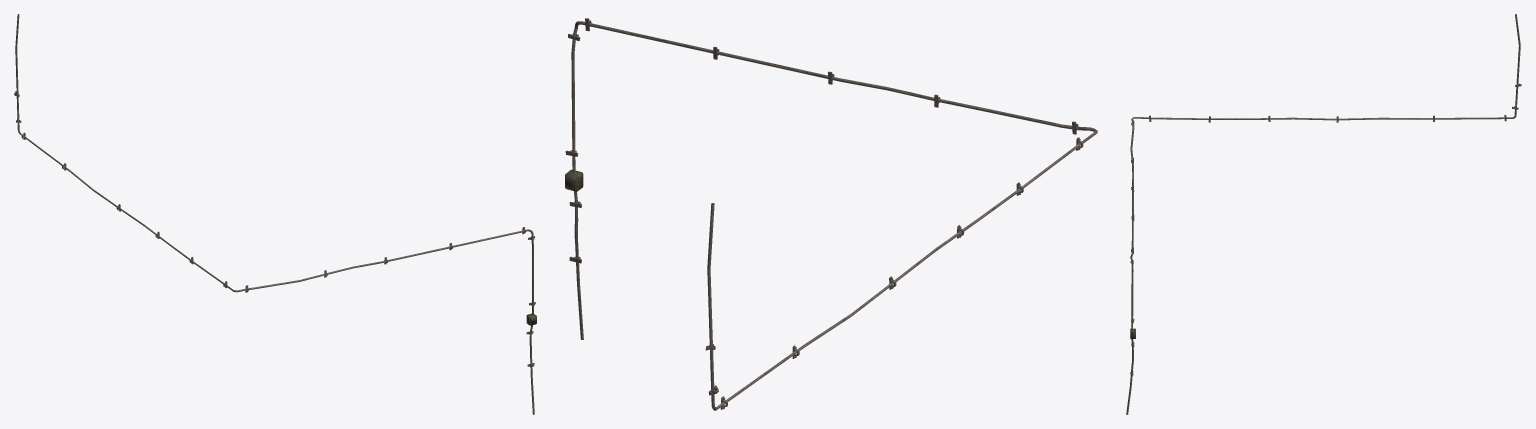
File: Wire_01.fbx
The picture shows the model from 3 angles, left to right: view 1: azimuth 30°, elevation 25°; view 2: azimuth 150°, elevation 25°; view 3: azimuth 270°, elevation 25°; orthographic projection. The views are drawn at different scales.
Parts seen in each view (by area): view 1: Wire_01; view 2: Wire_01; view 3: Wire_01.
Part boxes in pixels (box(x1,y1,x2,y2)): Wire_01: box(14, 14, 536, 414); Wire_01: box(565, 18, 1097, 410); Wire_01: box(1126, 14, 1521, 414).
Size of the model in its own units: 861 by 843 by 1105.
